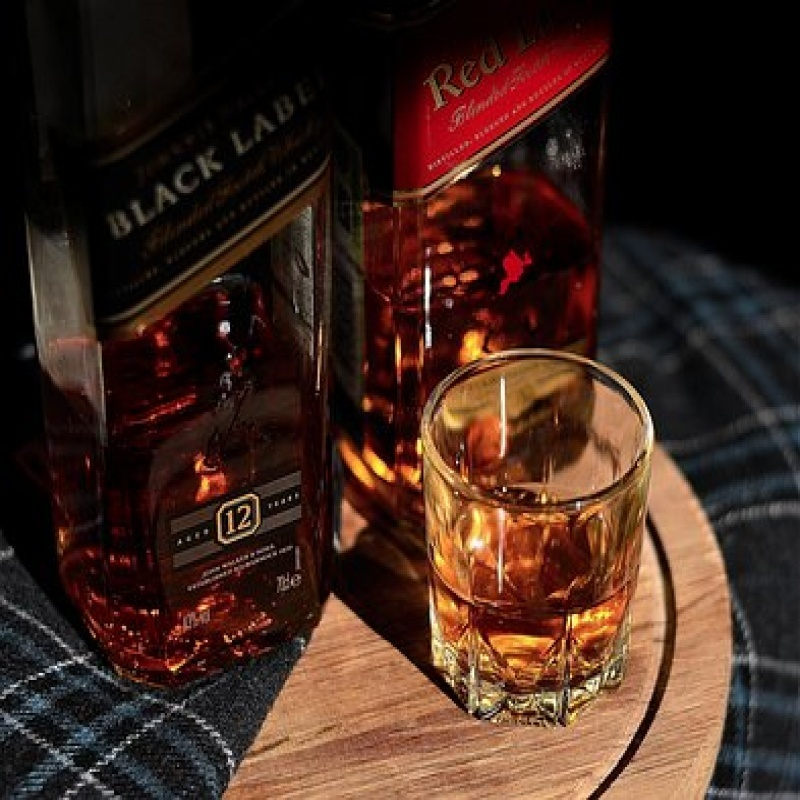whiskey: (419, 349, 641, 730)
